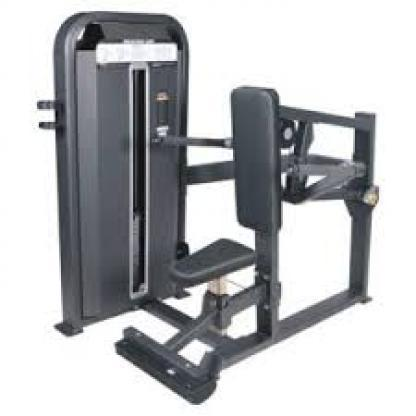seated dip machine: (31, 8, 382, 404)
